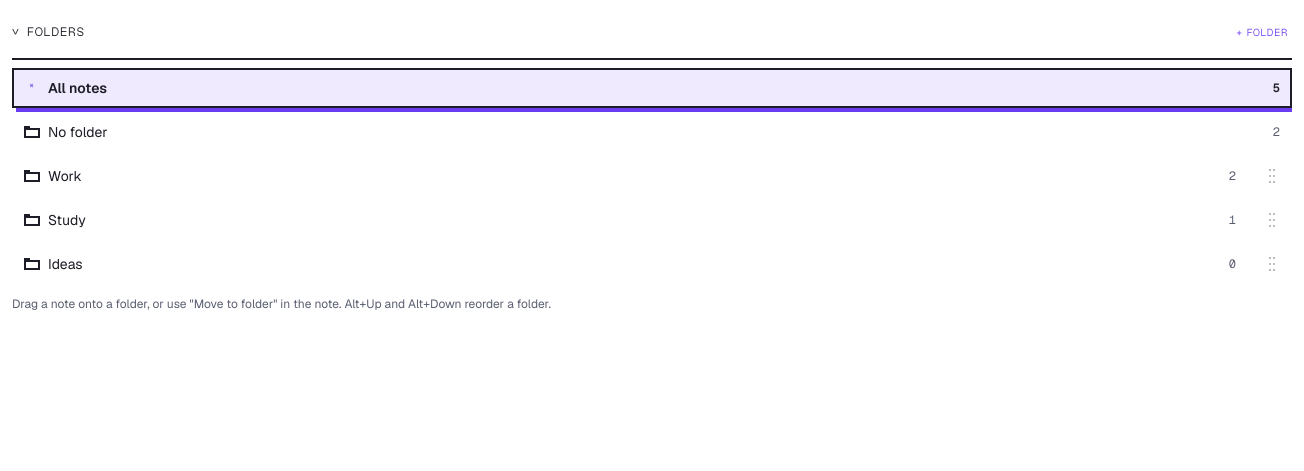
Test: shows the server refusal, like a name already taken
This screenshot has width=1304, height=471.
Click the button with aria-label "New folder": (1262, 32) [1232, 12, 1292, 52]
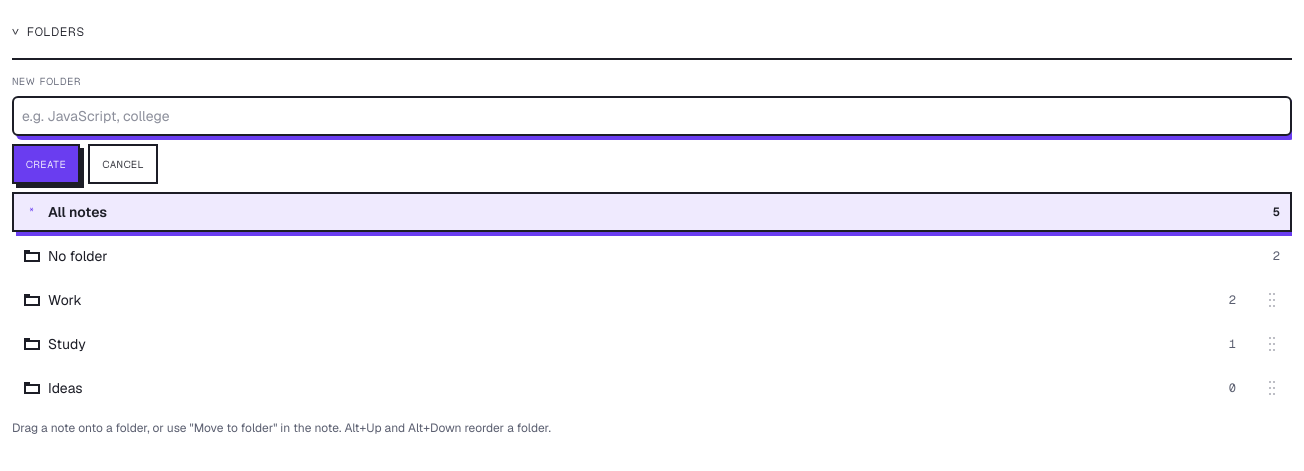
In the field labelled "New folder": (652, 116) [12, 96, 1292, 136], type "work"
Then press Enter
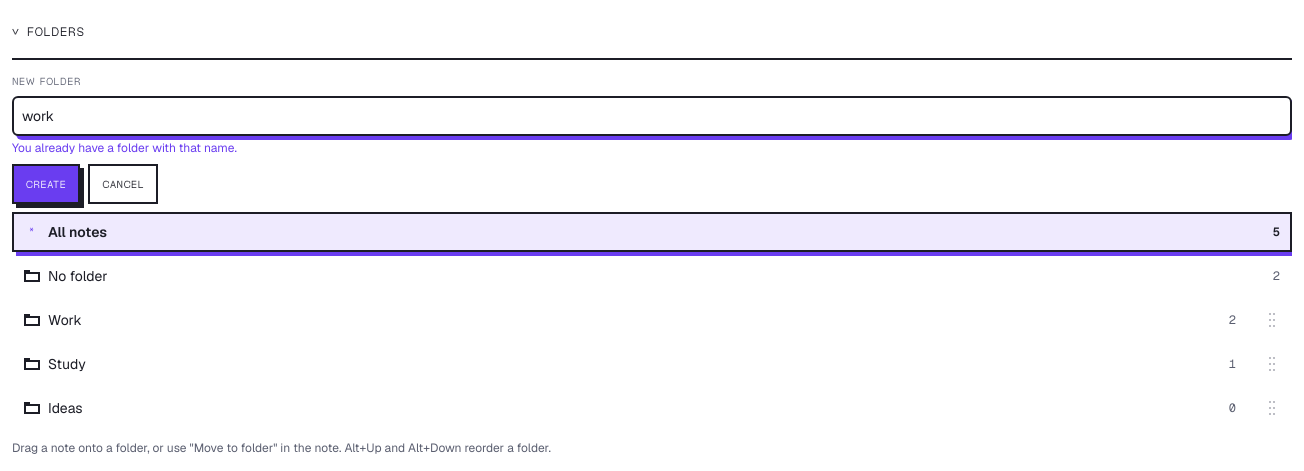
Expected: the message reads "You already have a folder with that name.", [12, 140, 237, 156]
